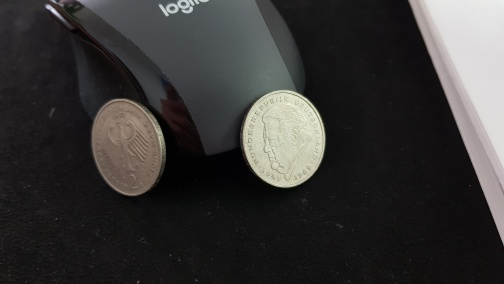coin: (240, 89, 327, 190), (90, 98, 168, 197)
